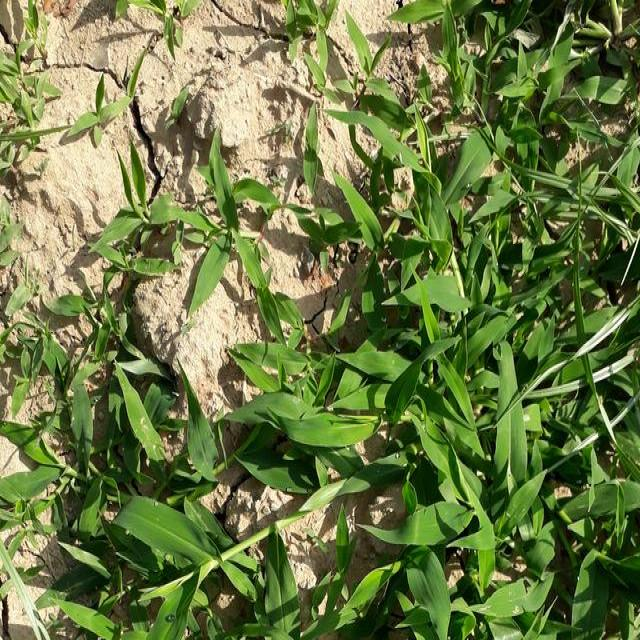weed: (415, 0, 640, 640), (51, 332, 238, 640), (293, 5, 391, 225), (250, 336, 410, 446), (188, 154, 262, 300)
